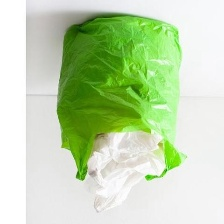plastic_bag: (54, 13, 192, 188), (78, 124, 168, 220)
